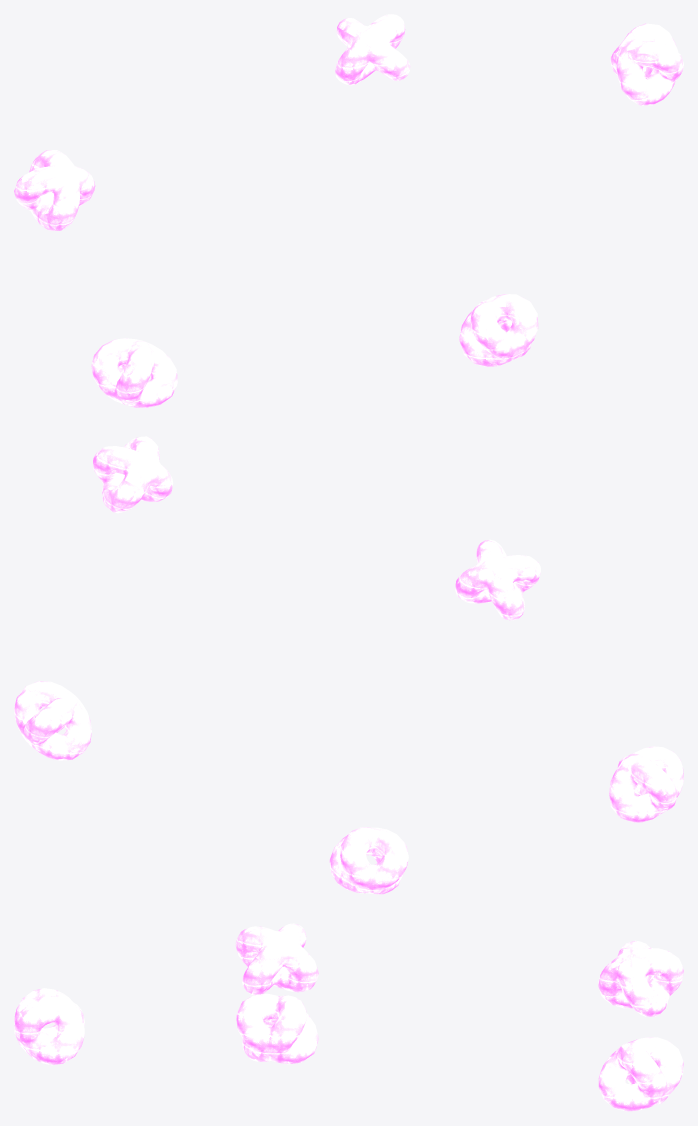
File: dna.glb
The picture shows the model from 3 angles, top to bottom: view 1: azimuth 30°, elevation 25°; view 2: azimuth 150°, elevation 25°; view 3: azimuth 270°, elevation 25°; orthographic projection. The views are drawn at different scales.
Visible parts, largest first — view 1: DNAORBS; view 2: DNAORBS; view 3: DNAORBS.
Part boxes in pixels (box(x1,y1,x2,y2)): DNAORBS: box(14, 14, 683, 407); DNAORBS: box(14, 436, 683, 894); DNAORBS: box(14, 923, 683, 1111).
Size of the model in its own units: 69.82 by 28.26 by 67.73.
